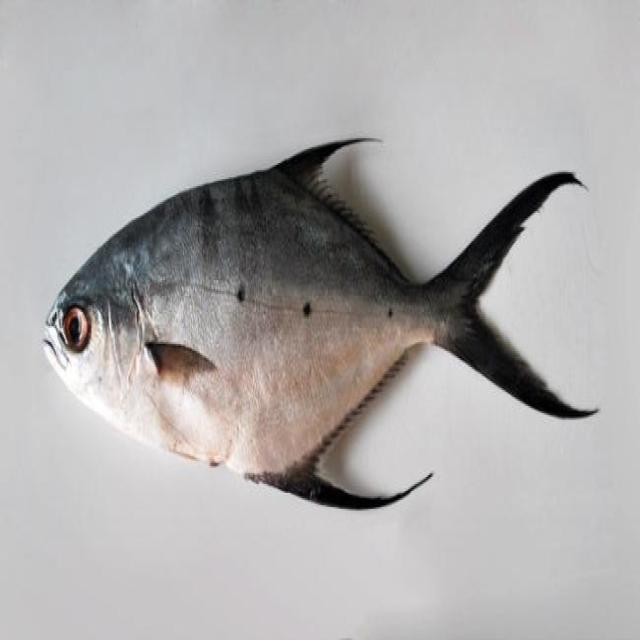ikan: (41, 131, 599, 511)
